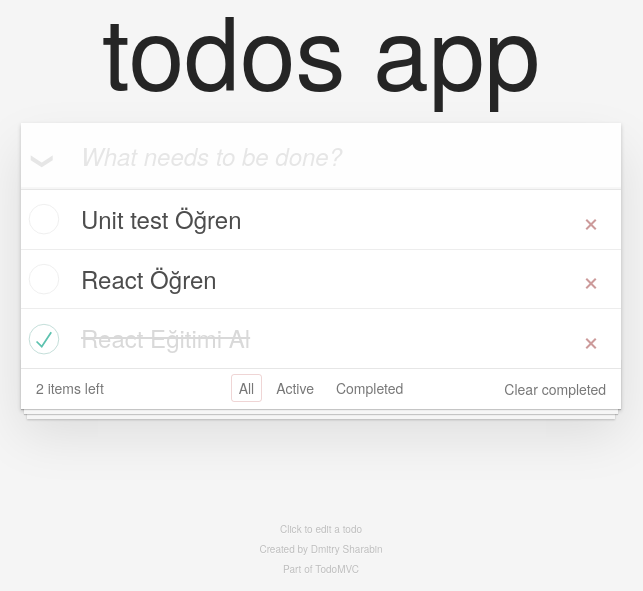
it: TodoApp Testleri › Bir görev tamamlandı olarak işaretlenebilmeli
This screenshot has width=643, height=591.
Click the checkbox with test id "toggle". click: (41, 219)
box: x1=21 y1=199 x2=61 y2=239
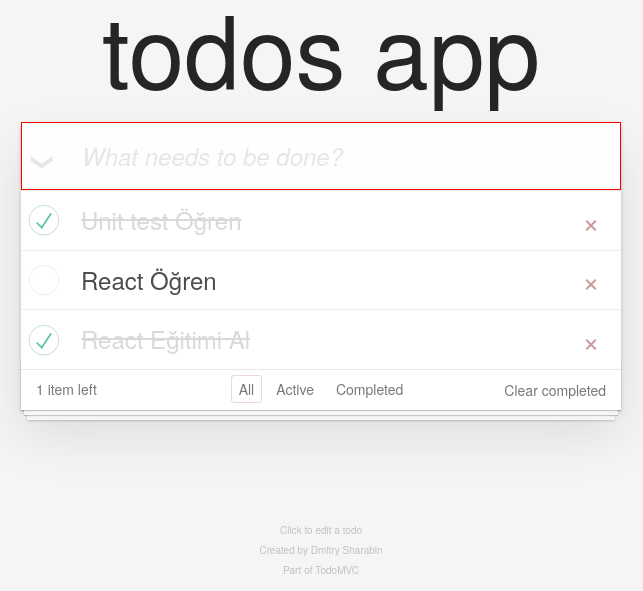
Check: the element with test id "items-left" reads "1 item left", box x1=36 y1=380 x2=97 y2=400
